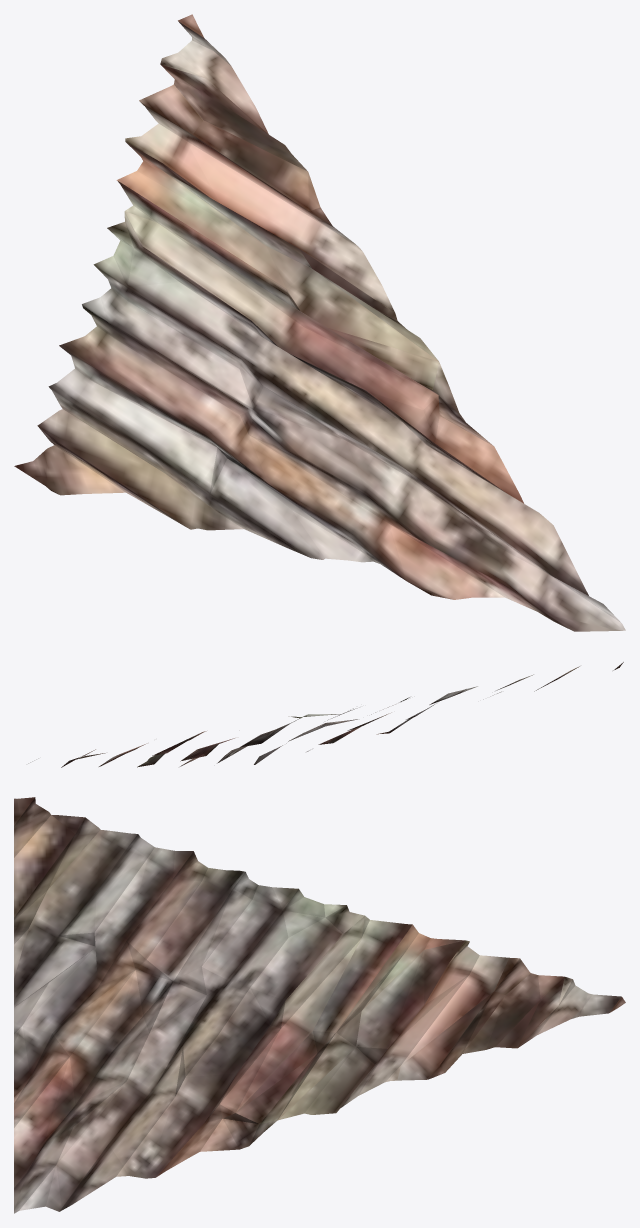
The picture shows the model from 3 angles, top to bottom: view 1: azimuth 30°, elevation 25°; view 2: azimuth 150°, elevation 25°; view 3: azimuth 270°, elevation 25°; orthographic projection. The views are drawn at different scales.
Bounding box in the file's own units: 1.46 × 0.6986 × 1.83.
Materials: 1 (1 with a texture image).
